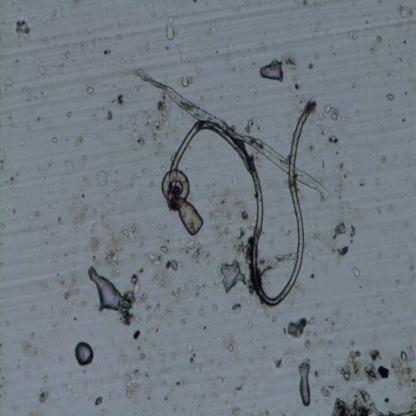Air bubble: (87, 265, 124, 314), (216, 259, 247, 296), (298, 361, 312, 409), (260, 58, 285, 82), (74, 340, 94, 366)
Background material: (210, 198, 252, 258), (314, 286, 349, 354), (130, 101, 172, 153), (113, 353, 153, 403), (340, 348, 390, 385), (380, 42, 416, 92), (105, 221, 138, 269), (331, 388, 380, 414), (196, 31, 237, 62), (390, 350, 416, 398), (120, 272, 141, 329), (226, 366, 249, 416), (316, 101, 341, 145), (169, 278, 205, 306), (388, 260, 416, 296), (178, 237, 210, 264), (148, 243, 178, 271), (157, 368, 183, 399), (284, 314, 314, 339), (101, 38, 126, 68), (142, 291, 163, 325), (0, 154, 21, 186), (57, 273, 80, 302), (97, 185, 118, 215), (71, 203, 89, 229), (223, 329, 239, 358), (382, 225, 404, 246), (4, 108, 18, 140), (335, 160, 347, 196), (55, 375, 69, 402), (0, 371, 12, 402), (329, 220, 347, 240), (291, 284, 305, 307), (16, 18, 30, 41), (374, 153, 388, 176), (286, 76, 302, 95), (296, 0, 326, 10), (370, 36, 384, 56), (284, 54, 300, 71), (24, 340, 38, 359), (88, 233, 100, 254), (244, 111, 254, 136), (187, 340, 197, 365), (166, 14, 175, 41), (270, 355, 287, 369), (204, 20, 218, 36), (256, 404, 274, 416), (36, 58, 48, 76), (35, 170, 48, 186), (65, 159, 77, 176), (98, 169, 108, 189), (396, 3, 407, 21), (51, 211, 62, 229), (181, 73, 194, 88), (115, 92, 126, 109), (62, 105, 74, 120), (334, 246, 350, 257), (37, 389, 49, 403), (321, 384, 335, 396), (27, 208, 40, 220), (230, 300, 241, 314), (348, 226, 356, 245), (350, 264, 360, 279), (231, 170, 240, 186), (84, 82, 94, 96), (155, 221, 163, 238), (302, 61, 314, 72), (131, 328, 141, 341), (349, 79, 359, 92), (348, 30, 358, 42), (386, 90, 396, 102), (342, 113, 352, 124), (94, 395, 103, 407), (106, 108, 114, 121), (61, 50, 71, 60), (305, 336, 312, 350), (50, 134, 58, 146), (3, 80, 15, 88), (245, 320, 254, 330), (357, 178, 366, 188), (270, 313, 278, 324), (76, 135, 83, 147), (382, 396, 390, 404), (156, 349, 165, 356), (375, 175, 380, 187), (314, 369, 320, 379), (42, 226, 48, 235), (83, 159, 88, 163)
Cellulose filter fibre: (140, 74, 332, 198)
Microfibre: (164, 95, 312, 305)
